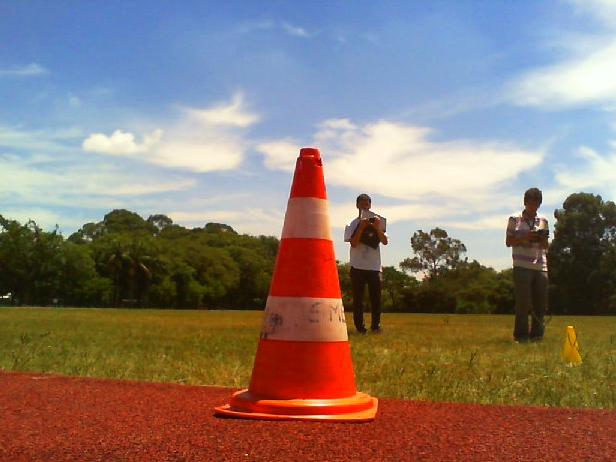0 cone: (212, 147, 379, 424), (559, 327, 584, 367)
